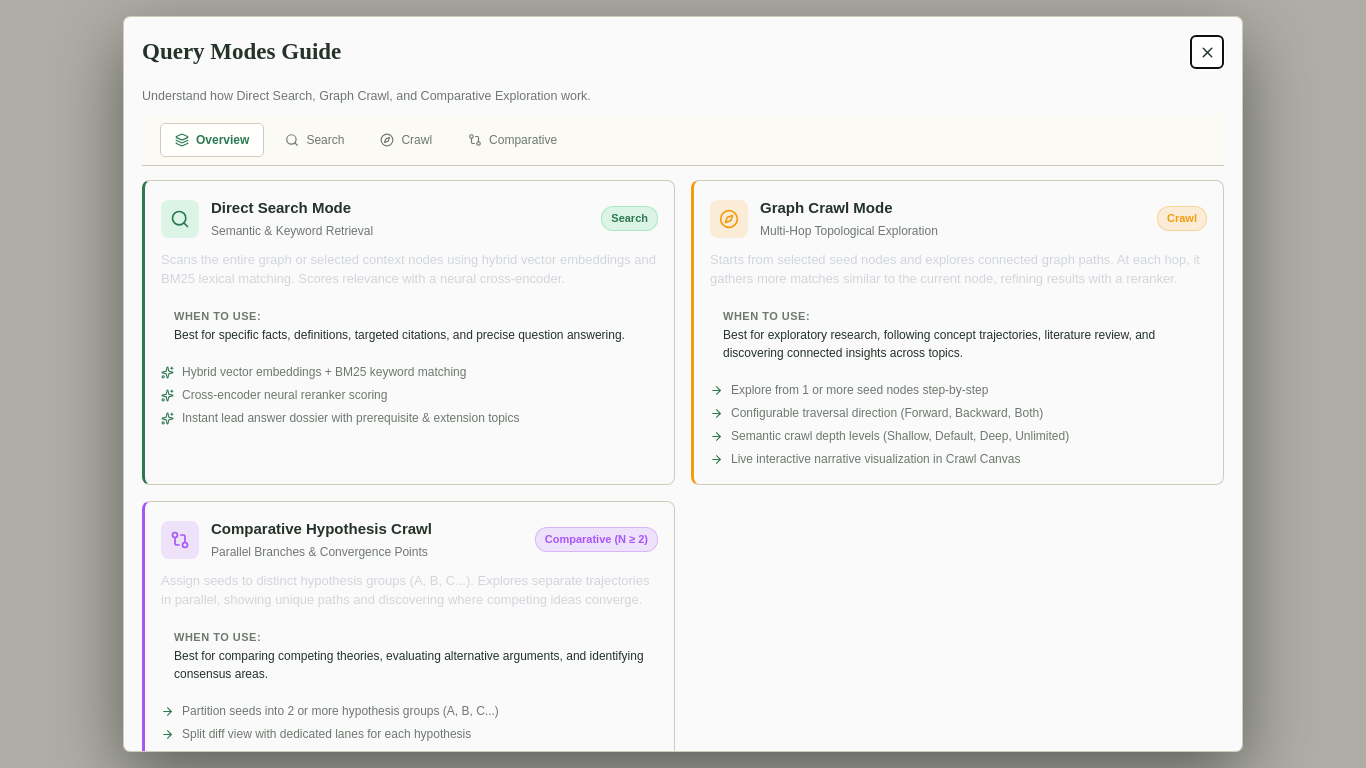
Test case: QueryModesGuideDialog › allows filtering by tab
# Click Search tab
What coordinates should you click on to do the following:
click the tab "Search"
I would click on:
 (315, 140)
Its box is [270,123,359,157].
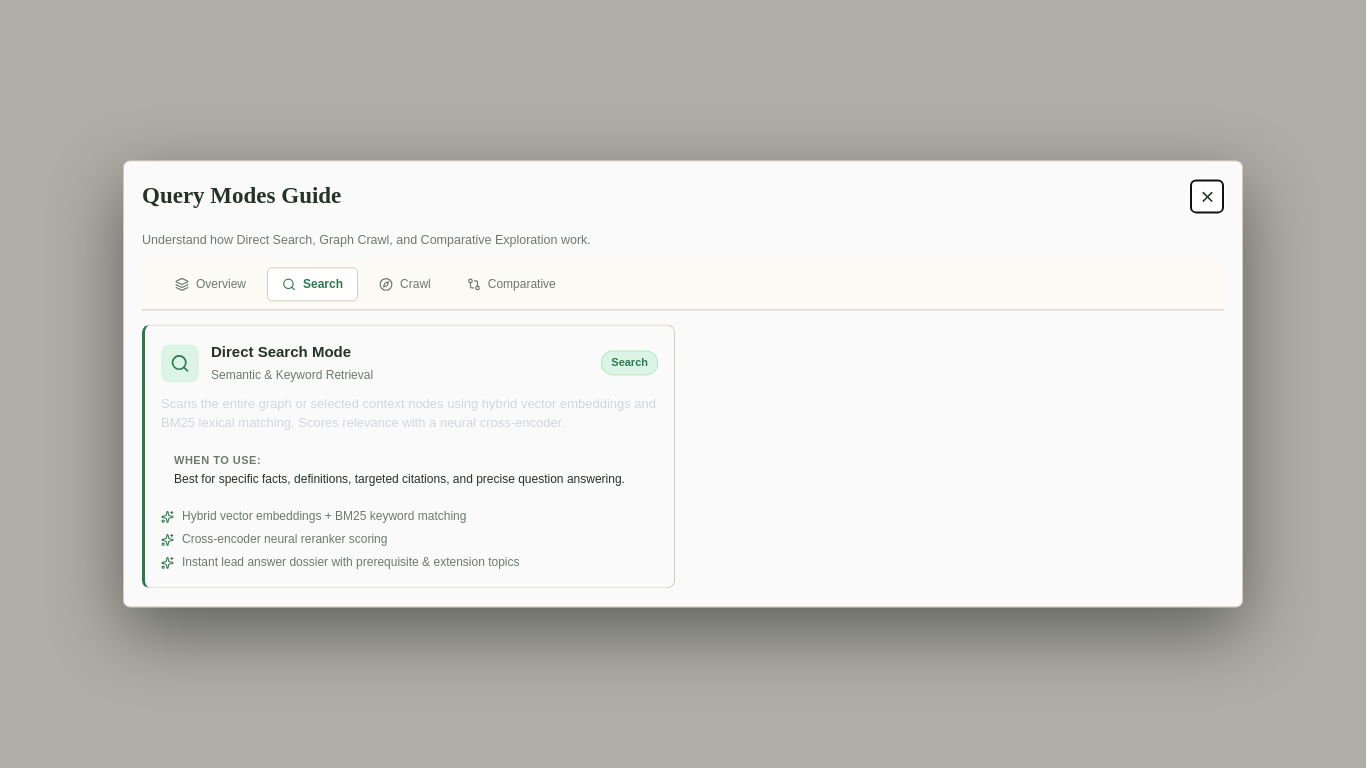
Expected: the heading "Direct Search Mode" is shown, [211,344,351,361]
Now the heading "Graph Crawl Mode" is gone
# Click Crawl tab
What coordinates should you click on to do the following:
click the tab "Crawl"
I would click on:
 (405, 285)
Its box is [364,268,446,302].
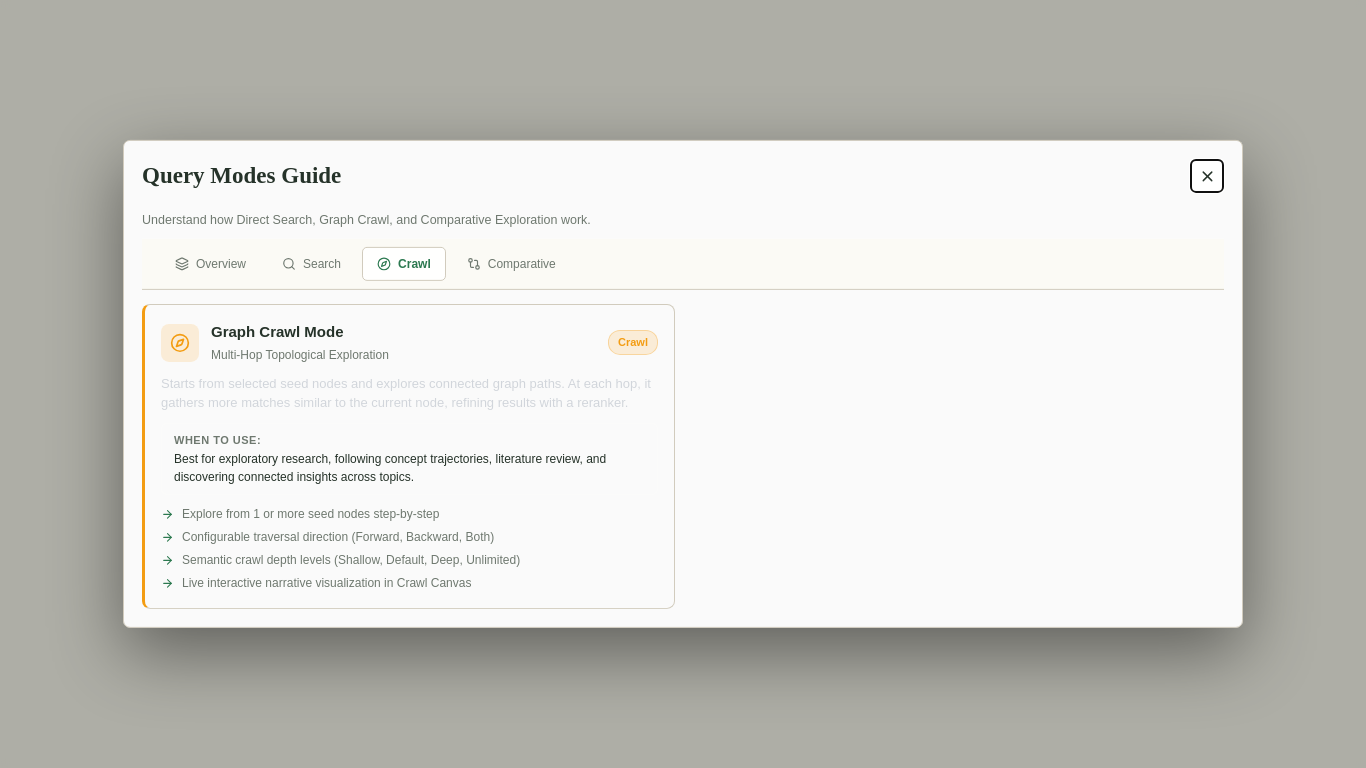
Now the heading "Graph Crawl Mode" is shown, box [211,323,344,340]
Now the heading "Direct Search Mode" is gone
# Click Comparative tab
What coordinates should you click on to do the following:
click the tab "Comparative"
I would click on:
 (511, 264)
Its box is [452,247,571,281].
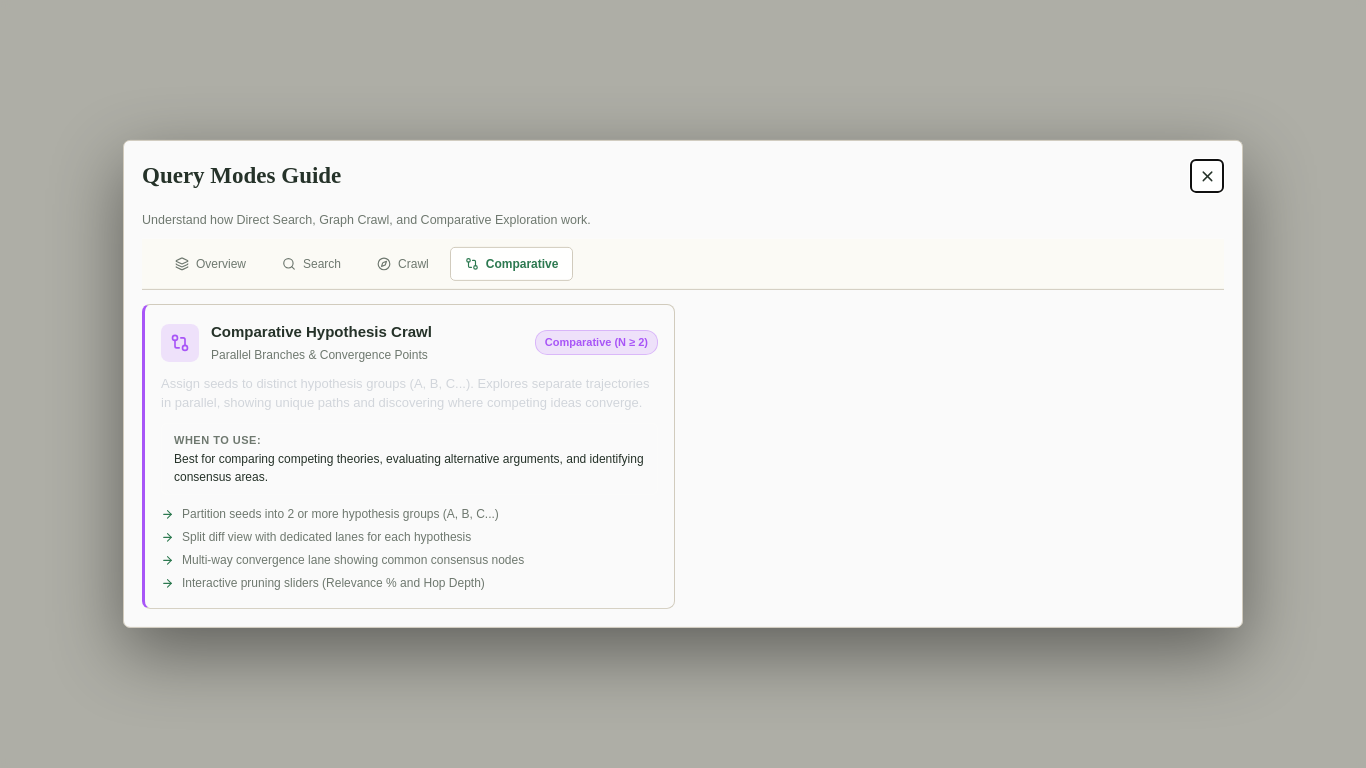
Expected: the heading "Direct Search Mode" is not shown
Now the heading "Comparative Hypothesis Crawl" is shown, box [211,323,432,340]
